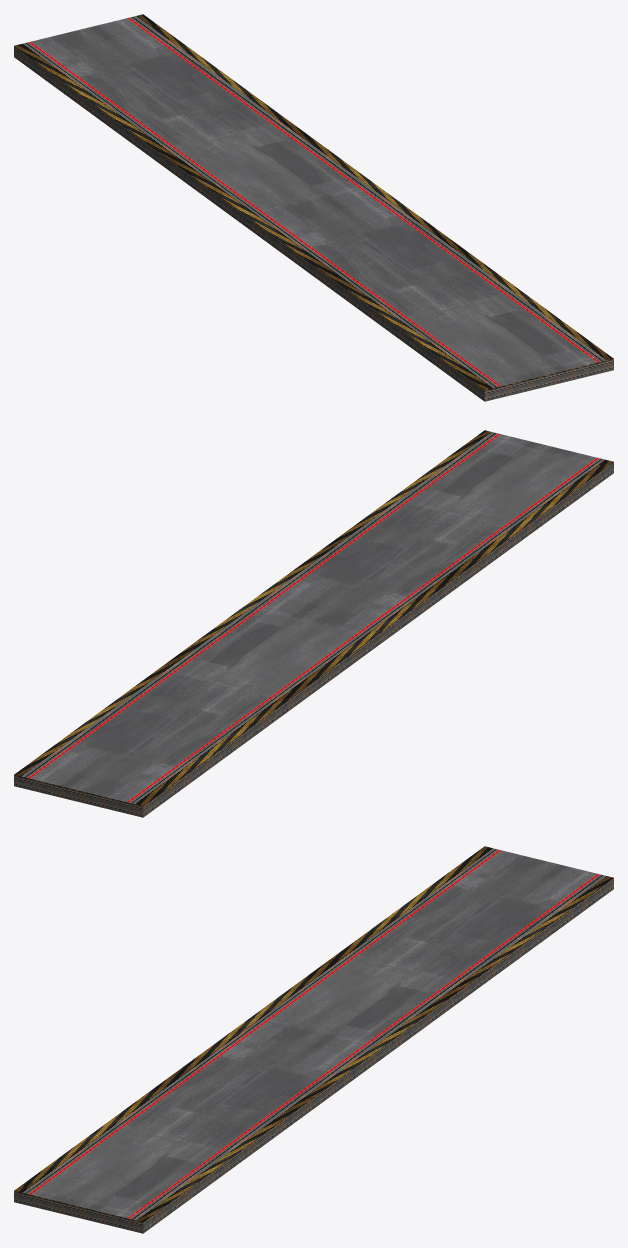
Rendered from Ramp_8.FBX.
3 renders of one model, top to bottom at view 1: azimuth 30°, elevation 25°; view 2: azimuth 150°, elevation 25°; view 3: azimuth 330°, elevation 25°, orthographic.
Parts seen in each view (by area): view 1: Box007; view 2: Box007; view 3: Box007.
Boxes of the visible parts, left/top/right/bottom form: Box007: left=14, top=14, right=613, bottom=401; Box007: left=14, top=430, right=613, bottom=817; Box007: left=14, top=846, right=613, bottom=1233.
Bounding box in the file's own units: 376 × 31.83 × 2373.
1 material, 1 textured.
